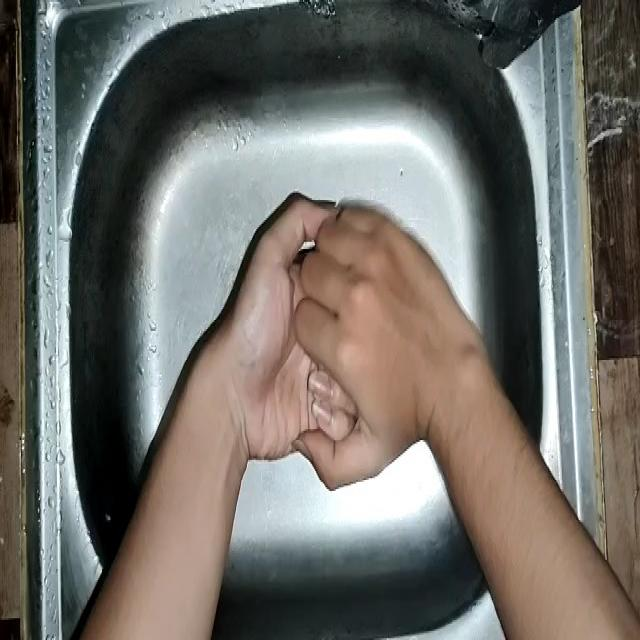step_4: (224, 185, 440, 503)
